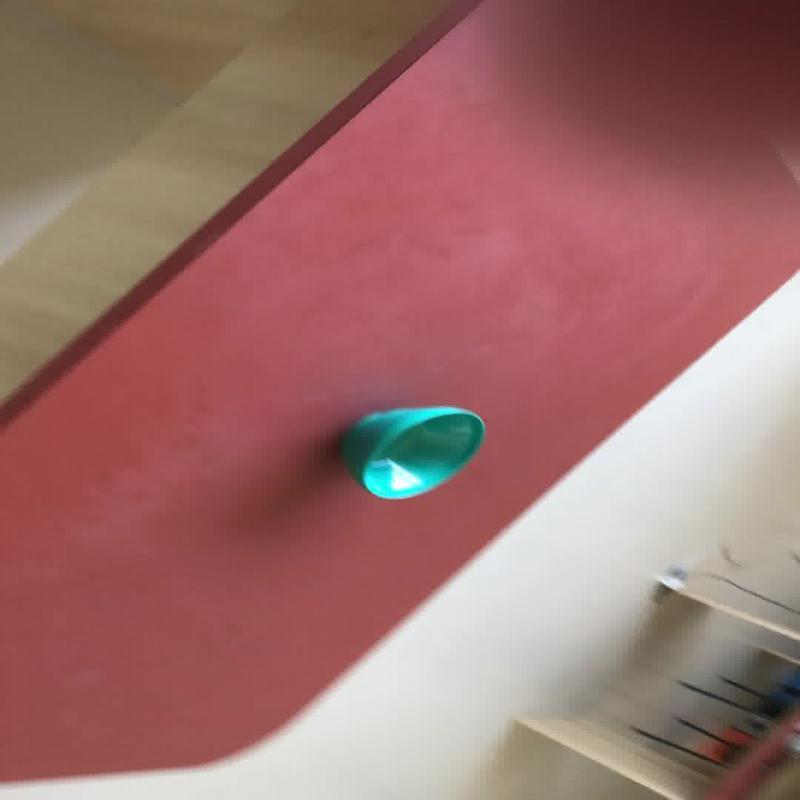bowl: (1, 0, 796, 793), (340, 404, 485, 500)
